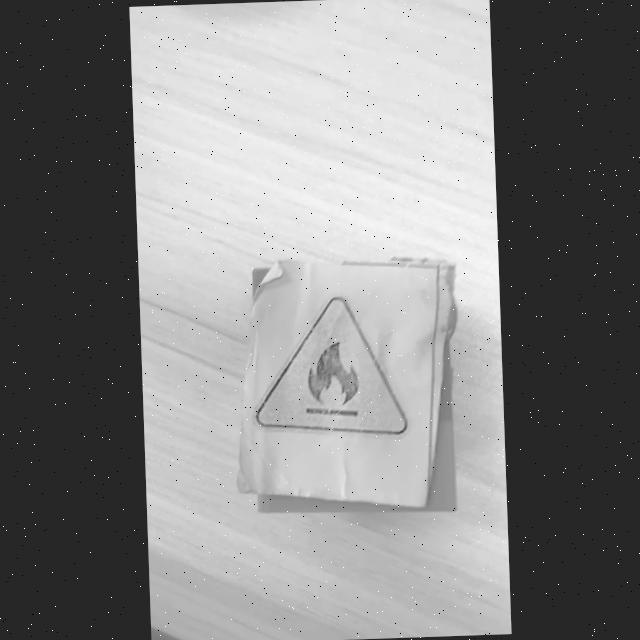Fire: (255, 297, 407, 434)
